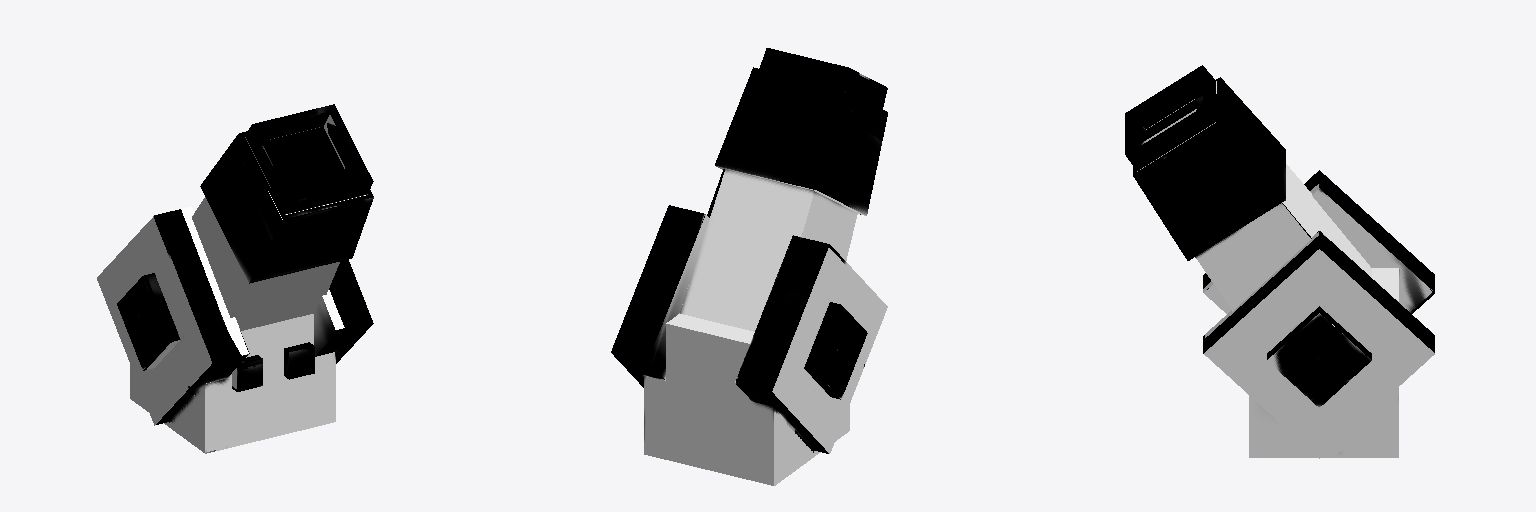
3 renders of one model, left to right at view 1: azimuth 30°, elevation 25°; view 2: azimuth 150°, elevation 25°; view 3: azimuth 270°, elevation 25°, orthographic.
Visible parts, largest first — view 1: 立方体.004; view 2: 立方体.004; view 3: 立方体.004.
Boxes of the visible parts, x1,y1,x2,y2 form: 立方体.004: [97, 104, 373, 453]; 立方体.004: [611, 48, 887, 485]; 立方体.004: [1125, 65, 1434, 458].
Size of the model in its own units: 4.08 by 7.13 by 5.89.
1 materials, 1 textured.